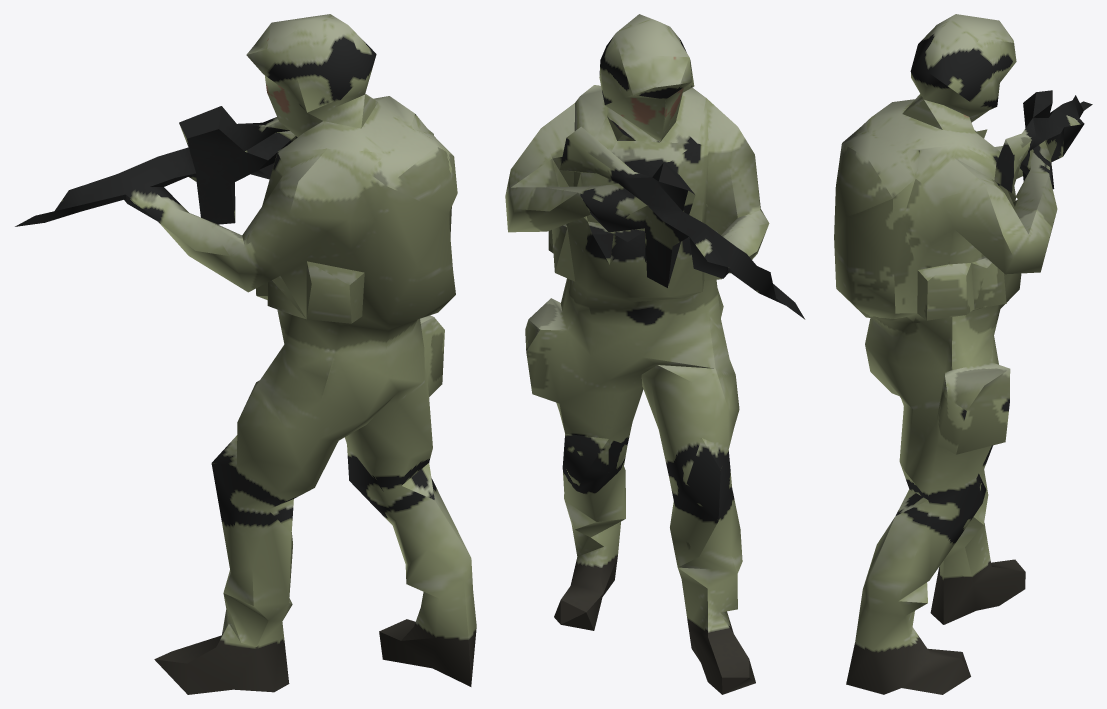
The model's file is rifle_soldier.glb.
3 views of the same model, side by side, from view 1: azimuth 30°, elevation 25°; view 2: azimuth 150°, elevation 25°; view 3: azimuth 270°, elevation 25° (orthographic). The views are drawn at different scales.
Parts seen in each view (by area): view 1: rifle_soldier; view 2: rifle_soldier; view 3: rifle_soldier.
Boxes of the visible parts, x1,y1,x2,y2 form: rifle_soldier: (15, 14, 476, 694); rifle_soldier: (505, 14, 805, 694); rifle_soldier: (834, 14, 1092, 694).
Bounding box in the file's own units: 0.1288 × 0.225 × 0.0842.
Materials: 1 (1 with a texture image).
